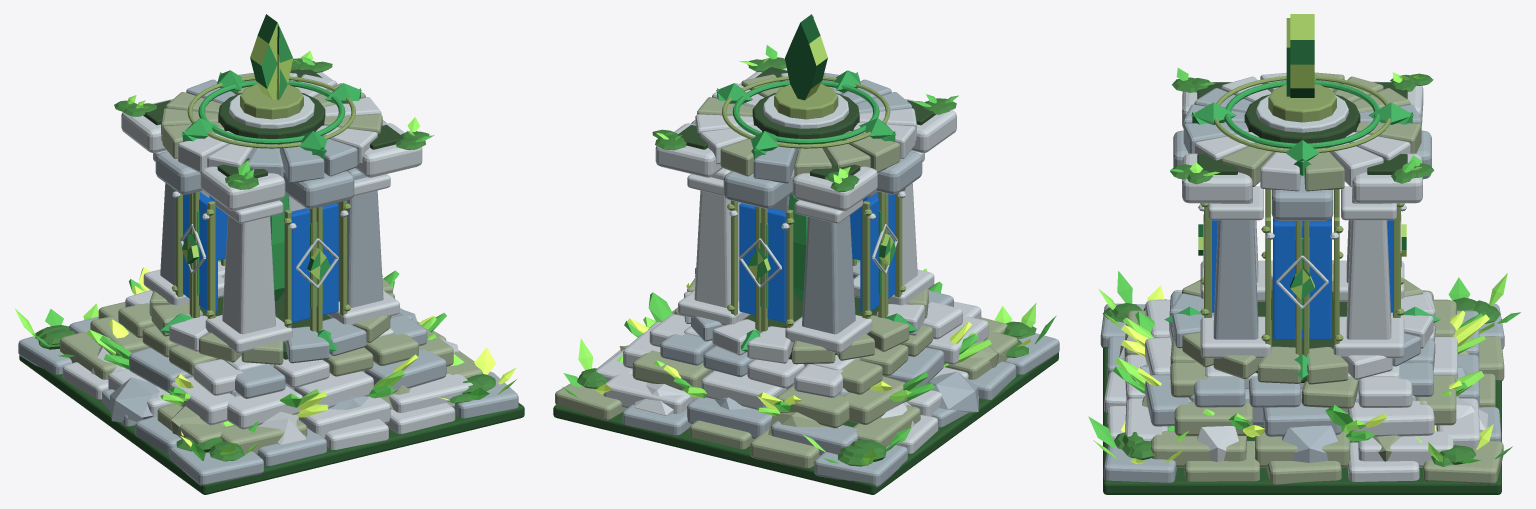
Rendered from nature.fbx.
3 renders of one model, left to right at view 1: azimuth 30°, elevation 25°; view 2: azimuth 150°, elevation 25°; view 3: azimuth 270°, elevation 25°, orthographic. The views are drawn at different scales.
Visible parts, largest first — view 1: Tower_Premium_Nature_Stonework, Tower_Premium_Nature_Trim, Tower_Premium_Nature_Growth, Tower_Premium_Nature_Core, Tower_Premium_Nature_Foundation_Rocks, Tower_Premium_Nature_Outer_Foliage, Tower_Premium_Nature_Elemental_Gems; view 2: Tower_Premium_Nature_Stonework, Tower_Premium_Nature_Trim, Tower_Premium_Nature_Growth, Tower_Premium_Nature_Core, Tower_Premium_Nature_Foundation_Rocks, Tower_Premium_Nature_Outer_Foliage, Tower_Premium_Nature_Elemental_Gems; view 3: Tower_Premium_Nature_Stonework, Tower_Premium_Nature_Trim, Tower_Premium_Nature_Growth, Tower_Premium_Nature_Core, Tower_Premium_Nature_Outer_Foliage, Tower_Premium_Nature_Foundation_Rocks, Tower_Premium_Nature_Elemental_Gems.
Boxes of the visible parts, box(x1,y1,x2,y2) form: Tower_Premium_Nature_Stonework: box(18, 72, 518, 485); Tower_Premium_Nature_Trim: box(143, 69, 403, 359); Tower_Premium_Nature_Growth: box(15, 50, 524, 494); Tower_Premium_Nature_Core: box(160, 70, 382, 352); Tower_Premium_Nature_Foundation_Rocks: box(91, 308, 458, 444); Tower_Premium_Nature_Outer_Foliage: box(86, 267, 446, 417); Tower_Premium_Nature_Elemental_Gems: box(182, 14, 330, 279); Tower_Premium_Nature_Stonework: box(555, 69, 1059, 487); Tower_Premium_Nature_Trim: box(678, 67, 949, 359); Tower_Premium_Nature_Growth: box(553, 45, 1058, 494); Tower_Premium_Nature_Core: box(695, 70, 917, 351); Tower_Premium_Nature_Foundation_Rocks: box(619, 313, 999, 435); Tower_Premium_Nature_Outer_Foliage: box(624, 267, 991, 416); Tower_Premium_Nature_Elemental_Gems: box(747, 14, 895, 279); Tower_Premium_Nature_Stonework: box(1100, 72, 1504, 484); Tower_Premium_Nature_Trim: box(1197, 76, 1415, 382); Tower_Premium_Nature_Growth: box(1088, 68, 1520, 494); Tower_Premium_Nature_Core: box(1164, 74, 1440, 379); Tower_Premium_Nature_Outer_Foliage: box(1113, 310, 1489, 441); Tower_Premium_Nature_Foundation_Rocks: box(1119, 335, 1487, 462); Tower_Premium_Nature_Elemental_Gems: box(1198, 14, 1406, 299).
Bounding box in the file's own units: 405 × 430 × 425.
